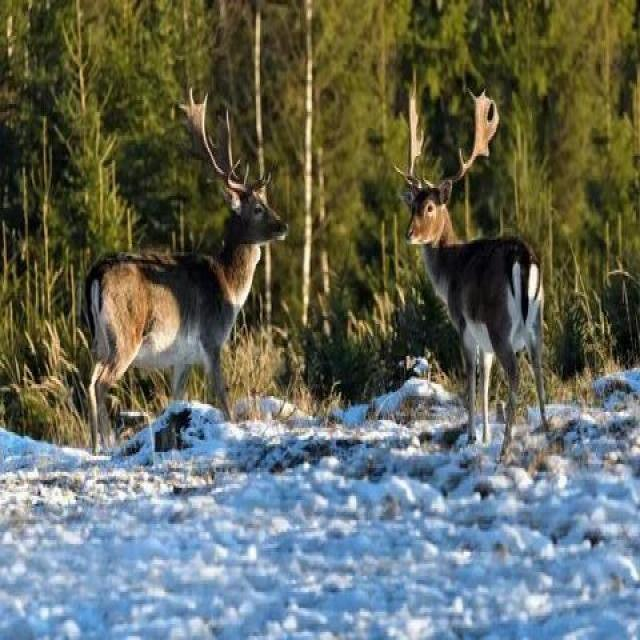deer: (66, 114, 348, 434), (367, 127, 616, 468)
